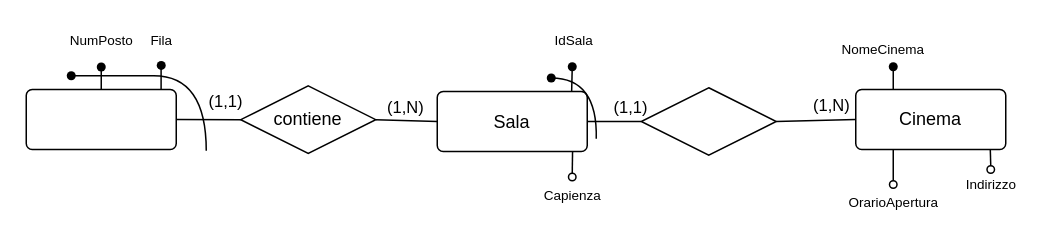
Image size: 1062x245. Some labels were removed from this diagram. Here are the shapes that lost their labels. From the top down, the box of each, then its label:
(25, 88, 176, 150): Posti
(640, 86, 776, 155): composto
